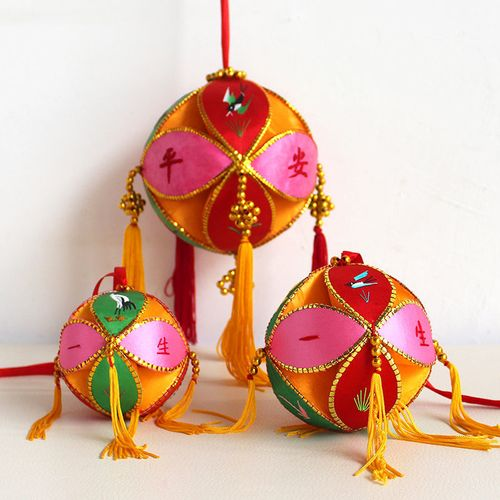xiuqiu: (263, 262, 439, 432), (142, 81, 319, 250)
